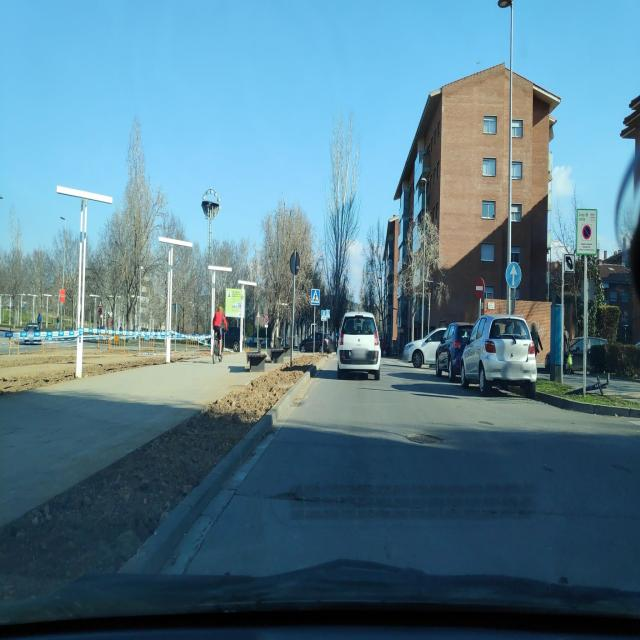forb_stopping: (582, 224, 591, 240), (264, 315, 268, 324)
